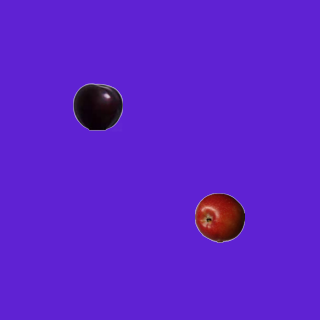Apple Braeburn: (194, 192, 244, 242)
Cherry Wax Black: (72, 81, 122, 131)
